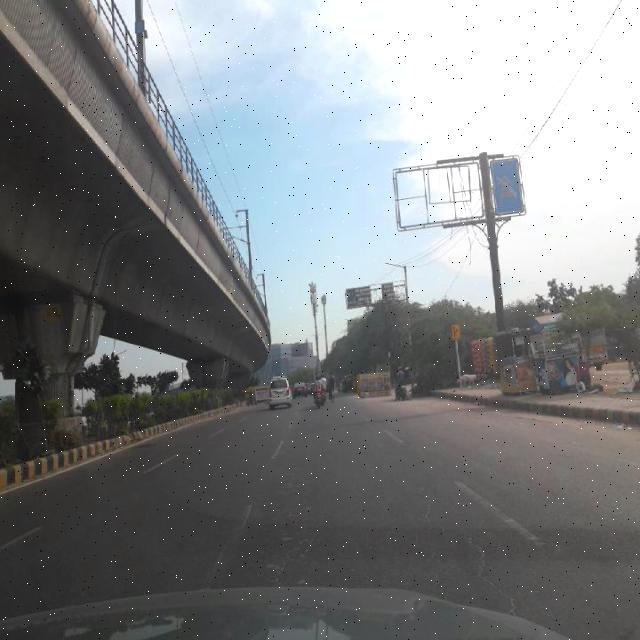D00: (197, 515, 239, 584)
D20: (380, 447, 522, 608), (256, 448, 320, 584)
D44: (456, 476, 551, 542)
